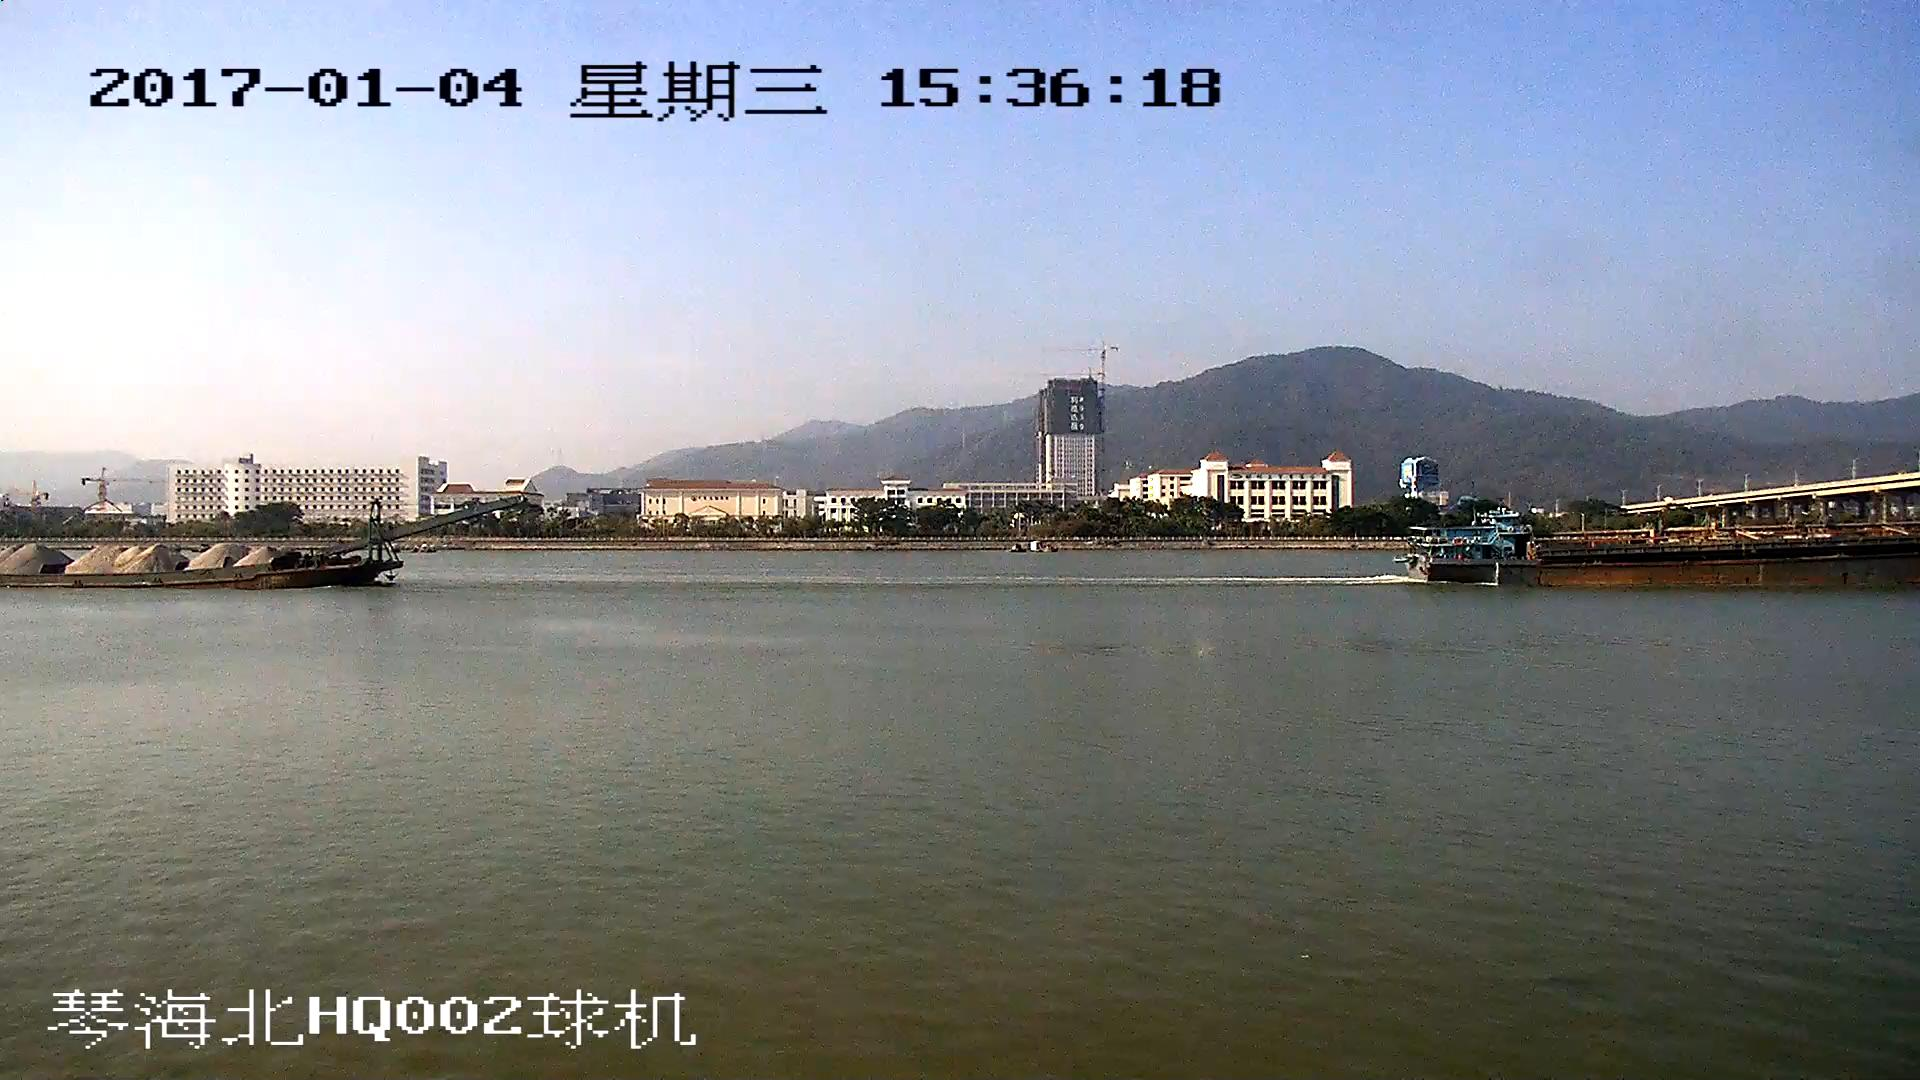bulk cargo carrier: (1410, 520, 1920, 588)
ore carrier: (1, 499, 520, 584)
